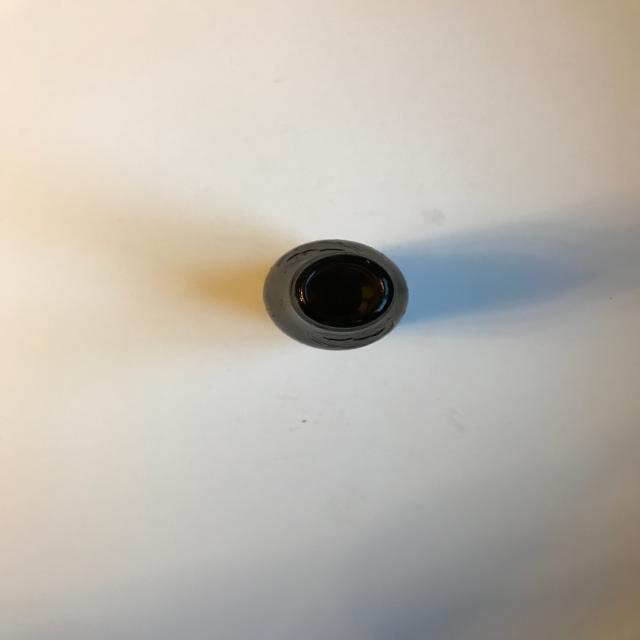glass: (261, 238, 410, 351)
